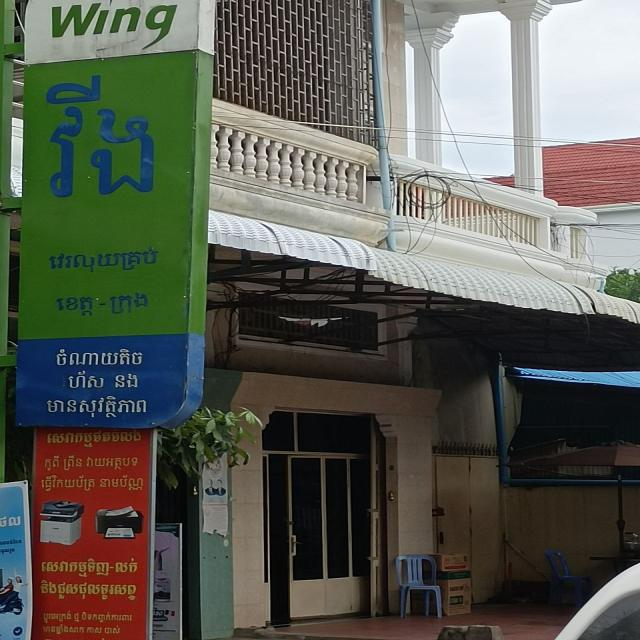Yolov11kh: (29, 64, 175, 206), (43, 242, 166, 277), (43, 394, 152, 422), (53, 288, 152, 318), (33, 578, 144, 604), (39, 470, 149, 496), (43, 426, 147, 450), (53, 345, 148, 369), (38, 558, 143, 579), (39, 454, 145, 472), (62, 369, 141, 391), (39, 609, 137, 624), (38, 624, 126, 636)
